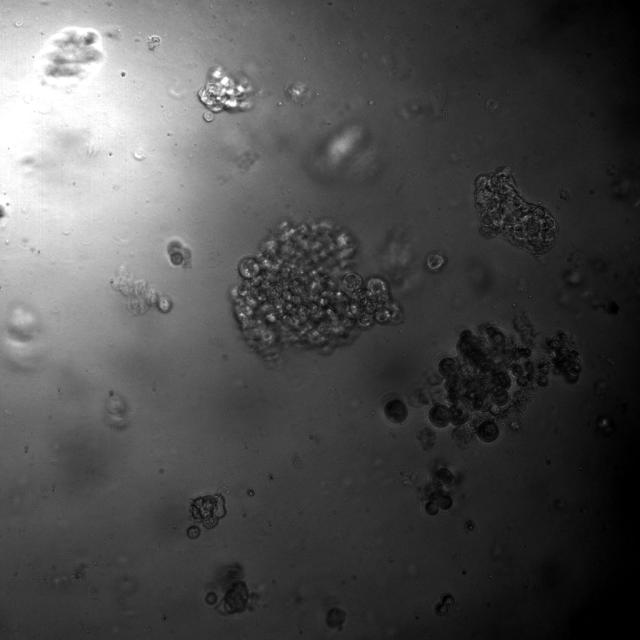organoid: (407, 308, 585, 448), (232, 220, 401, 361), (474, 167, 556, 256), (35, 26, 104, 86), (198, 65, 254, 121), (110, 266, 170, 314), (416, 459, 459, 517), (217, 563, 260, 616), (189, 493, 227, 529), (106, 389, 130, 430), (284, 81, 313, 105), (167, 238, 191, 267), (384, 398, 408, 423), (424, 250, 448, 274), (416, 426, 436, 451), (434, 592, 454, 616), (325, 607, 346, 628), (399, 469, 418, 487), (462, 518, 478, 534), (186, 525, 200, 539), (204, 591, 218, 605), (460, 569, 468, 577), (388, 555, 394, 562)
